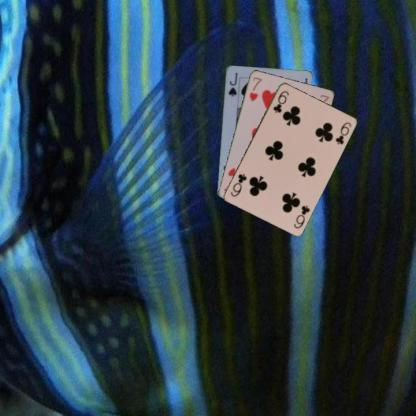6c: (291, 203, 311, 230), (270, 88, 290, 114)
7h: (247, 74, 263, 102)
Js: (225, 70, 241, 101)
